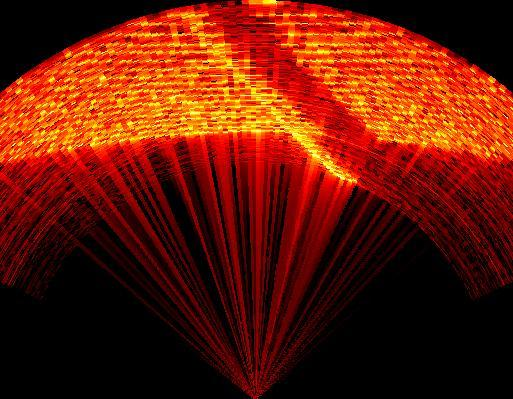pipe: (182, 5, 382, 186)
